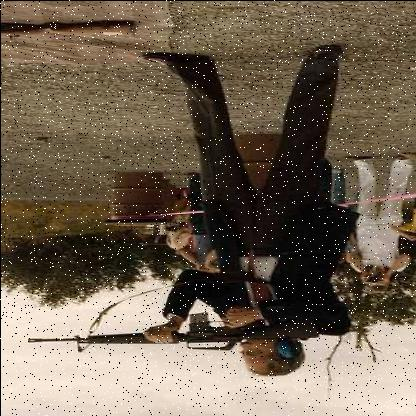rifle: (6, 307, 332, 353)
